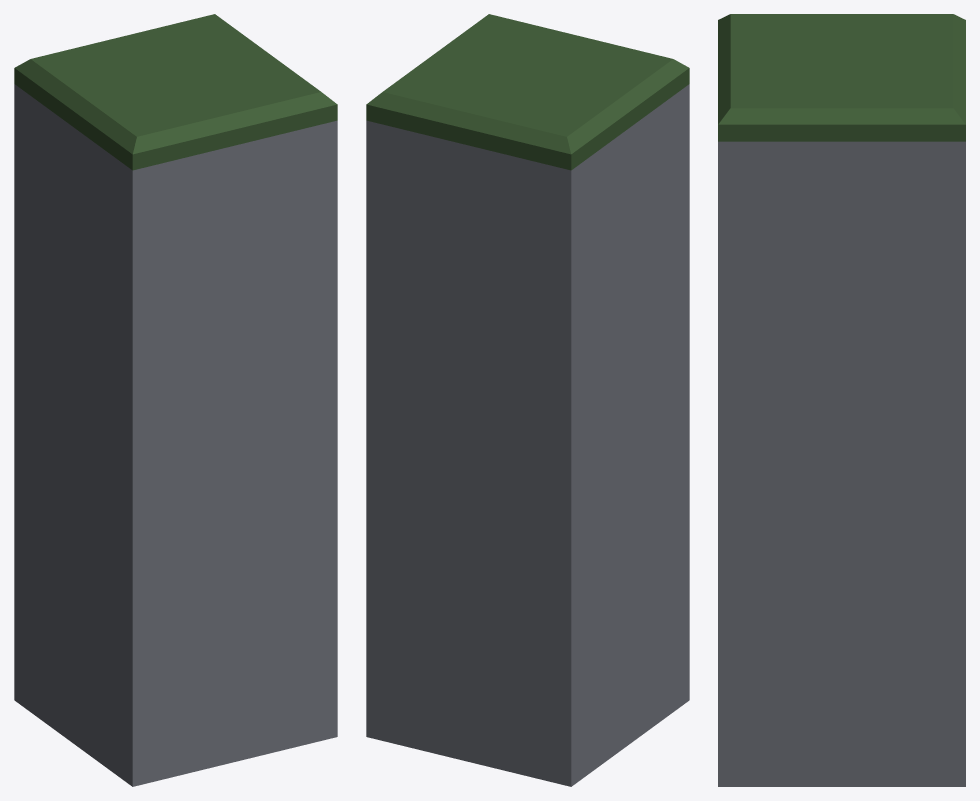
Rendered from Cliff1.fbx.
The picture shows the model from 3 angles, left to right: view 1: azimuth 30°, elevation 25°; view 2: azimuth 150°, elevation 25°; view 3: azimuth 270°, elevation 25°; orthographic projection. The views are drawn at different scales.
Parts seen in each view (by area): view 1: Cube; view 2: Cube; view 3: Cube.
Part boxes in pixels (box(x1,y1,x2,y2)): Cube: box(14, 14, 337, 786); Cube: box(366, 14, 689, 786); Cube: box(718, 14, 965, 786).
Bounding box in the file's own units: 2 × 6 × 2.
